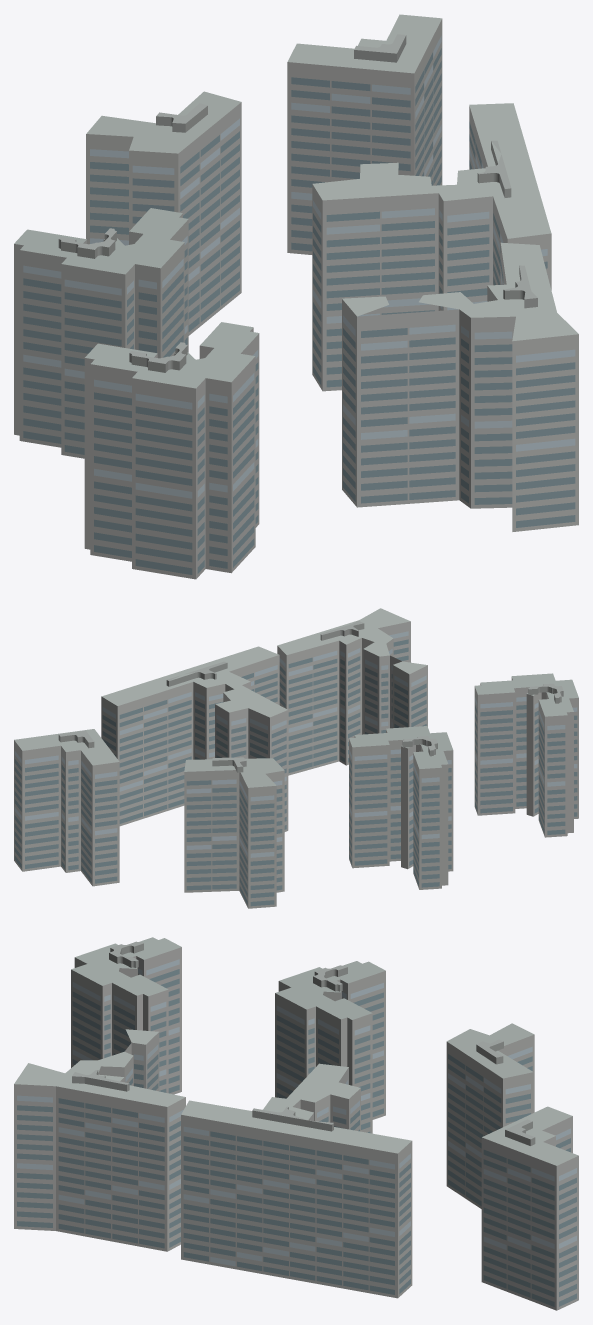
Rendered from apt-a13410012.glb.
The picture shows the model from 3 angles, top to bottom: view 1: azimuth 30°, elevation 25°; view 2: azimuth 150°, elevation 25°; view 3: azimuth 270°, elevation 25°; orthographic projection. The views are drawn at different scales.
Visible parts, largest first — view 1: apt-a13410012; view 2: apt-a13410012; view 3: apt-a13410012.
Boxes of the visible parts, left/top/right/bottom form: apt-a13410012: left=14, top=14, right=578, bottom=579; apt-a13410012: left=14, top=608, right=578, bottom=908; apt-a13410012: left=14, top=937, right=578, bottom=1310.
Size of the model in its own units: 152 by 47 by 159.
